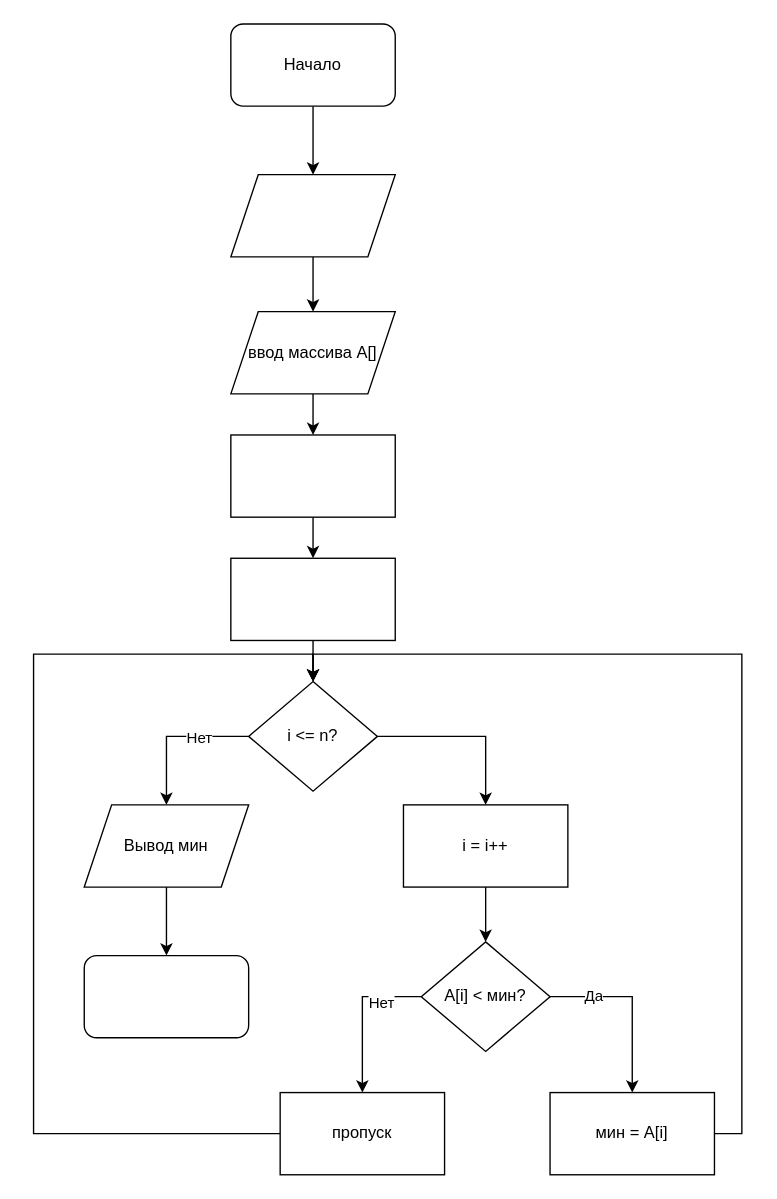
Image size: 777x1199. Some labels were removed from this diagram. Each missing label, with the box of its shape:
ввод n: (229, 173, 395, 257)
иницилизация минимального мин = А[1]: (229, 434, 395, 517)
конец: (83, 954, 249, 1038)
начало цикла i = 2: (229, 557, 395, 640)
